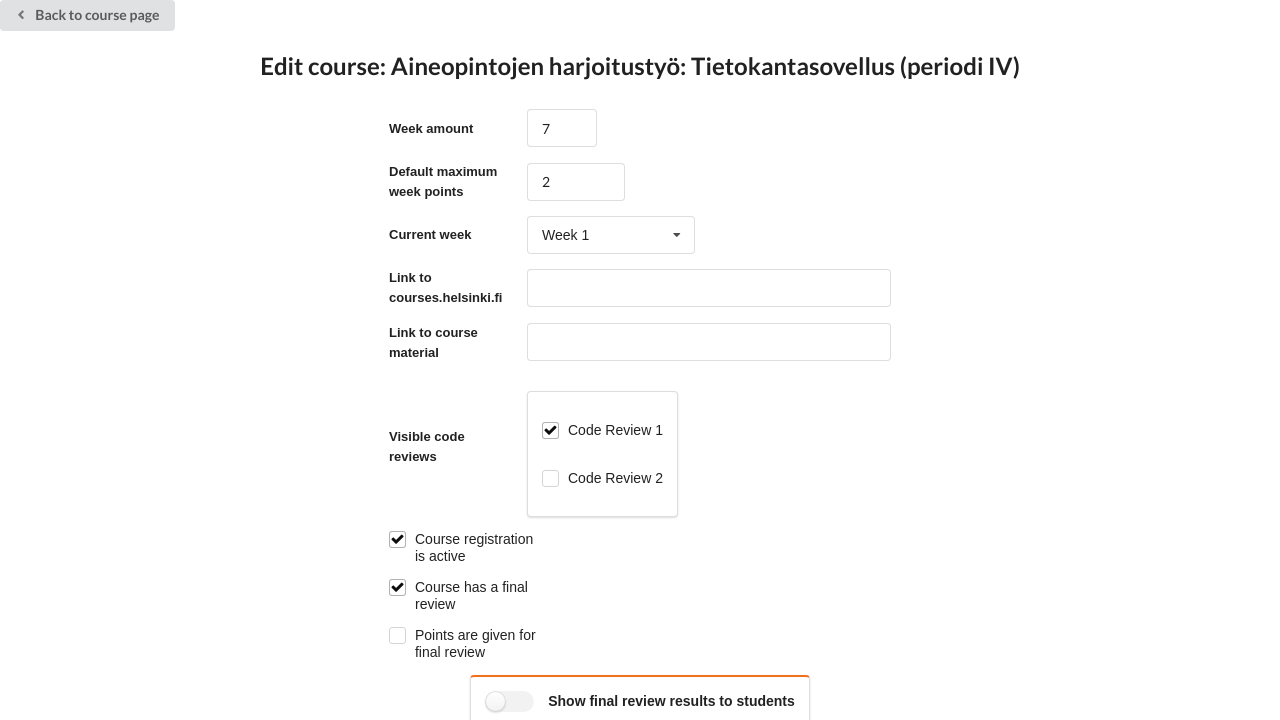
<ModifyCourseInstancePage /> › showing the final review to students › asks for confirmation before showing the results
The width and height of the screenshot is (1280, 720).
Click the element with class "checkbox" that starts with "Show final review results to students": [672, 701] box x1=548 y1=693 x2=795 y2=709
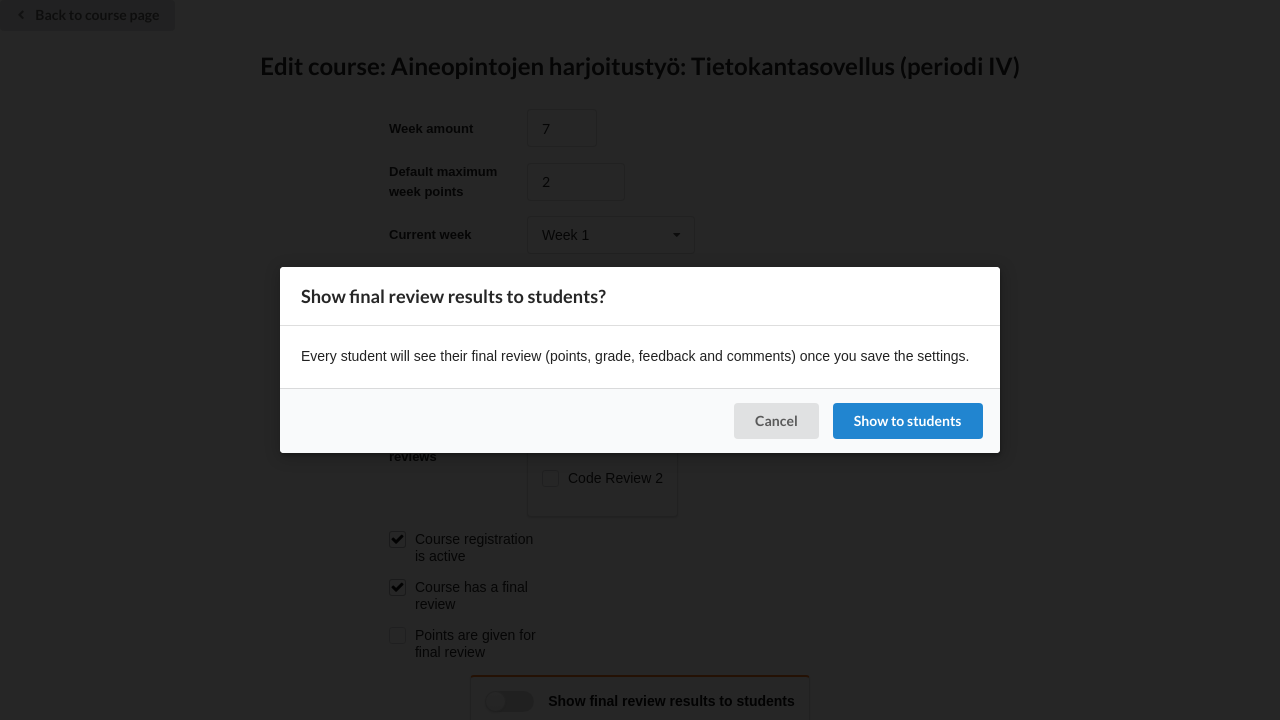
expect the element with class "finalReviewVisibilityConfirm" shows "Show final review results to students?": met, box x1=301 y1=284 x2=606 y2=306
Click the button "Show to students": [908, 421] box x1=833 y1=403 x2=983 y2=439
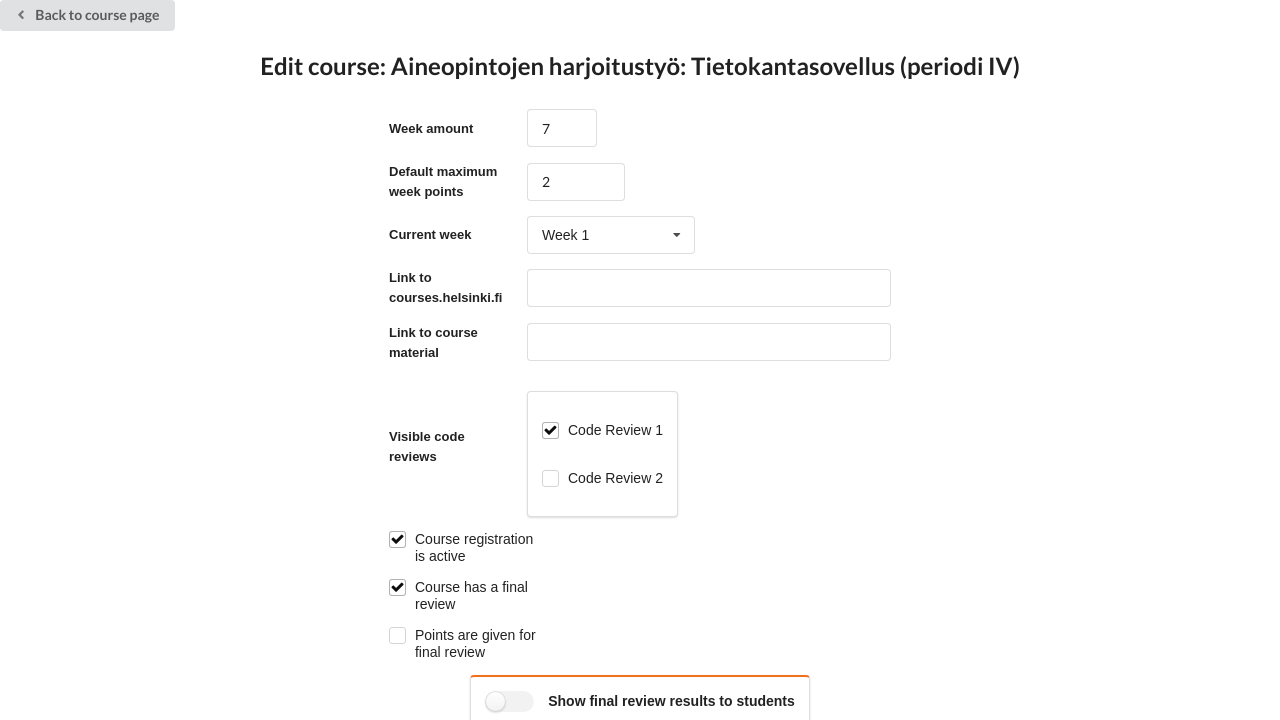
expect the element with class "finalReviewVisibilityConfirm" is gone: met
